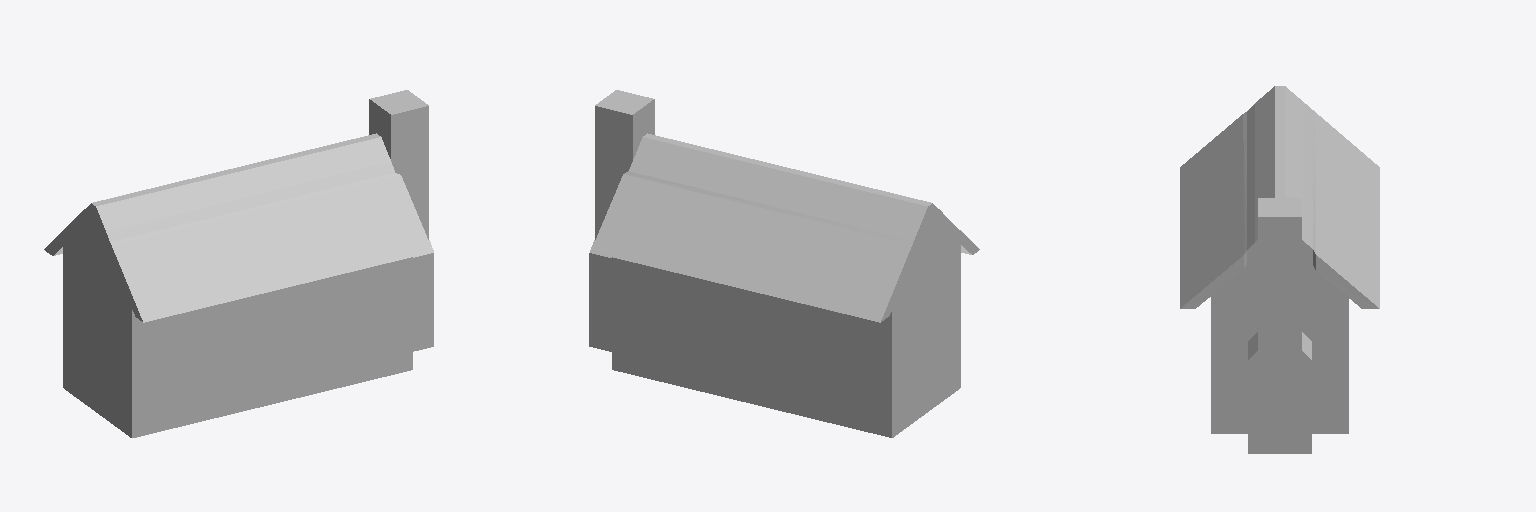
Rendered from house.obj.
The picture shows the model from 3 angles: view 1: azimuth 30°, elevation 25°; view 2: azimuth 150°, elevation 25°; view 3: azimuth 270°, elevation 25°; orthographic projection.
Parts seen in each view (by area): view 1: house; view 2: house; view 3: house.
Part boxes in pixels (left/top/right/bottom): house: left=44, top=90, right=433, bottom=437; house: left=589, top=90, right=979, bottom=437; house: left=1180, top=86, right=1379, bottom=453.
Size of the model in its own units: 914 by 637 by 486.